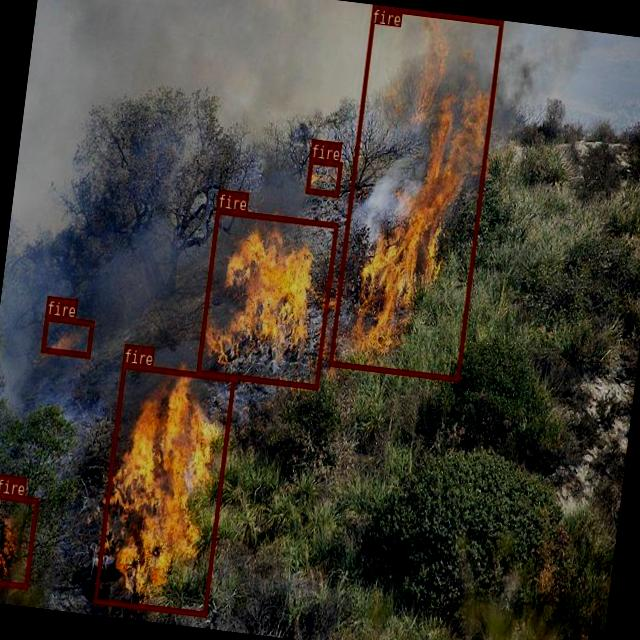fire: (328, 4, 502, 381), (93, 362, 235, 615), (195, 206, 338, 388), (0, 492, 37, 588), (40, 314, 93, 357), (304, 158, 342, 196)
